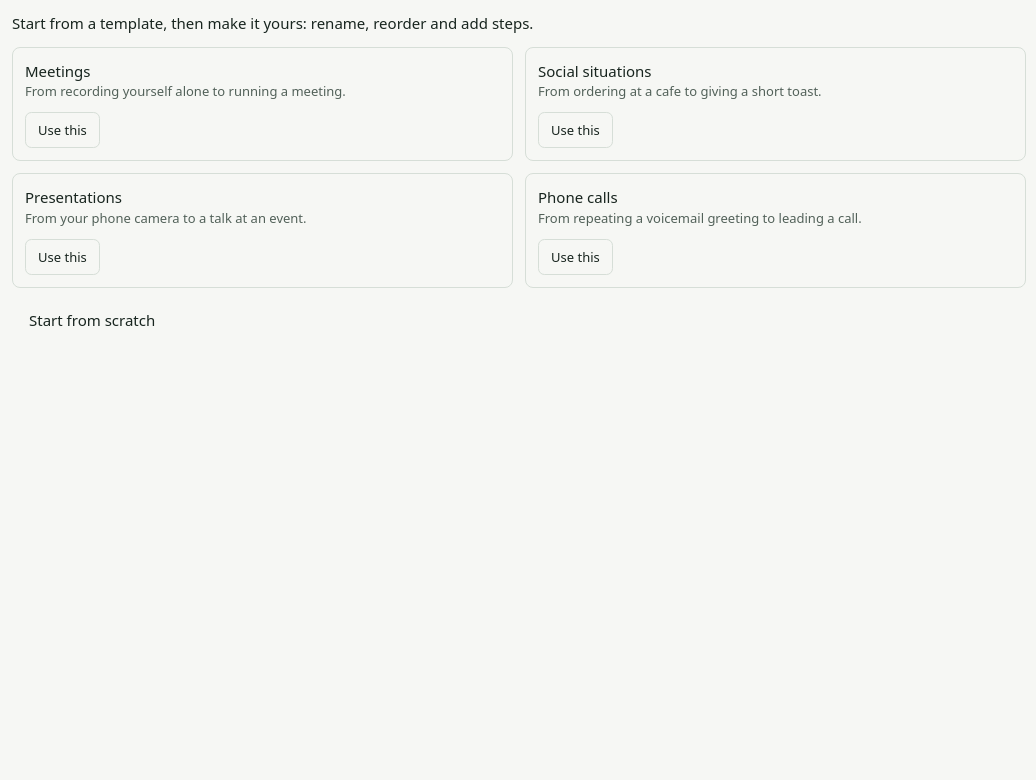
Test: the exposure ladder (12.2) › builds a ladder from a template and reorders by keyboard
Click the button with aria-label "Use the Meetings template".
click(62, 130)  # box [25,112,100,148]
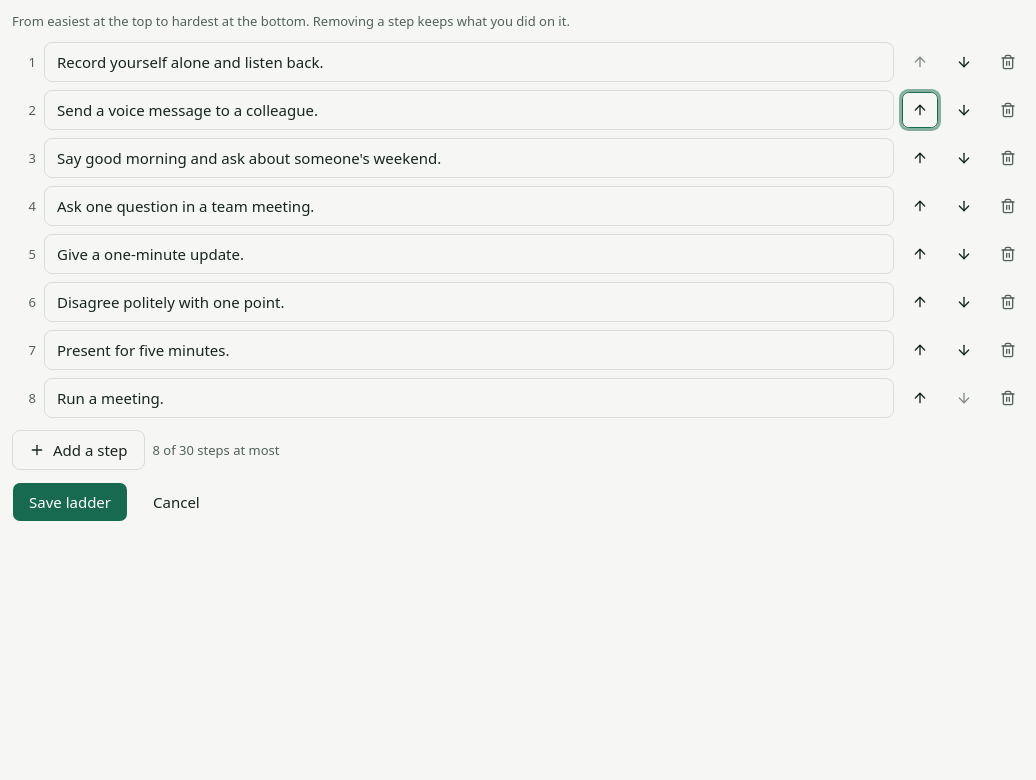
Expected: the number of fields is 8
Expected: the field named "Step 1" holds "Record yourself alone and listen back.", [44,42,894,82]
Press Enter
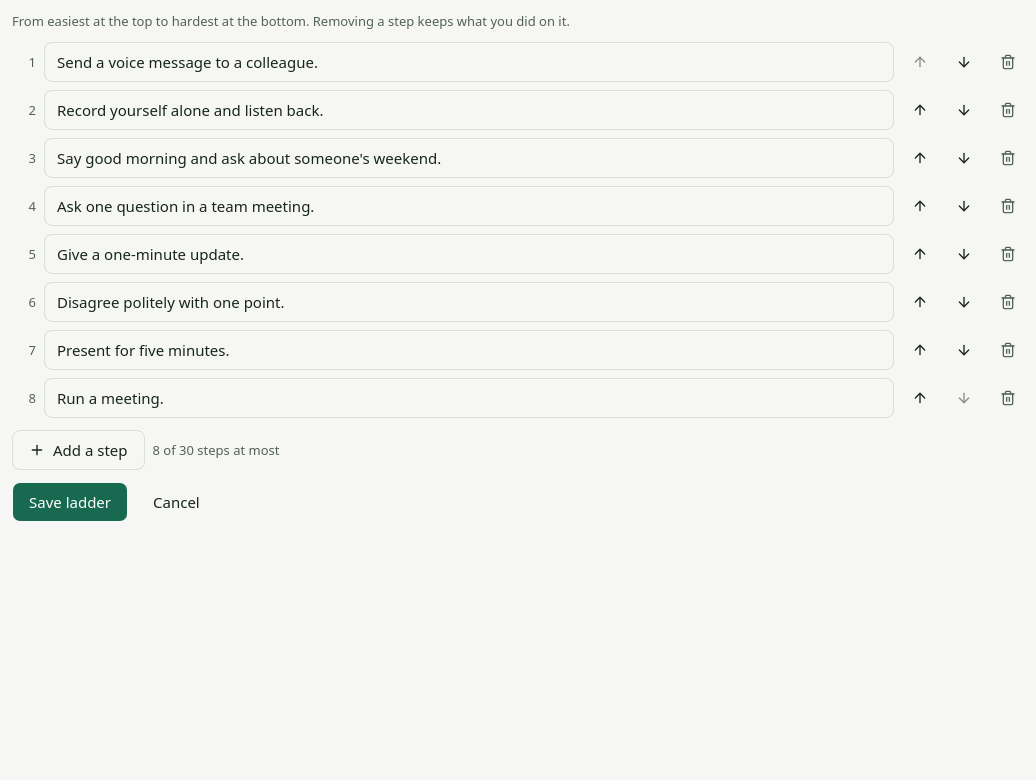
Expected: the field named "Step 1" holds "Send a voice message to a colleague.", [44,42,894,82]
Click the button named "Remove step 8".
click(1008, 398)  # box [990,380,1026,416]
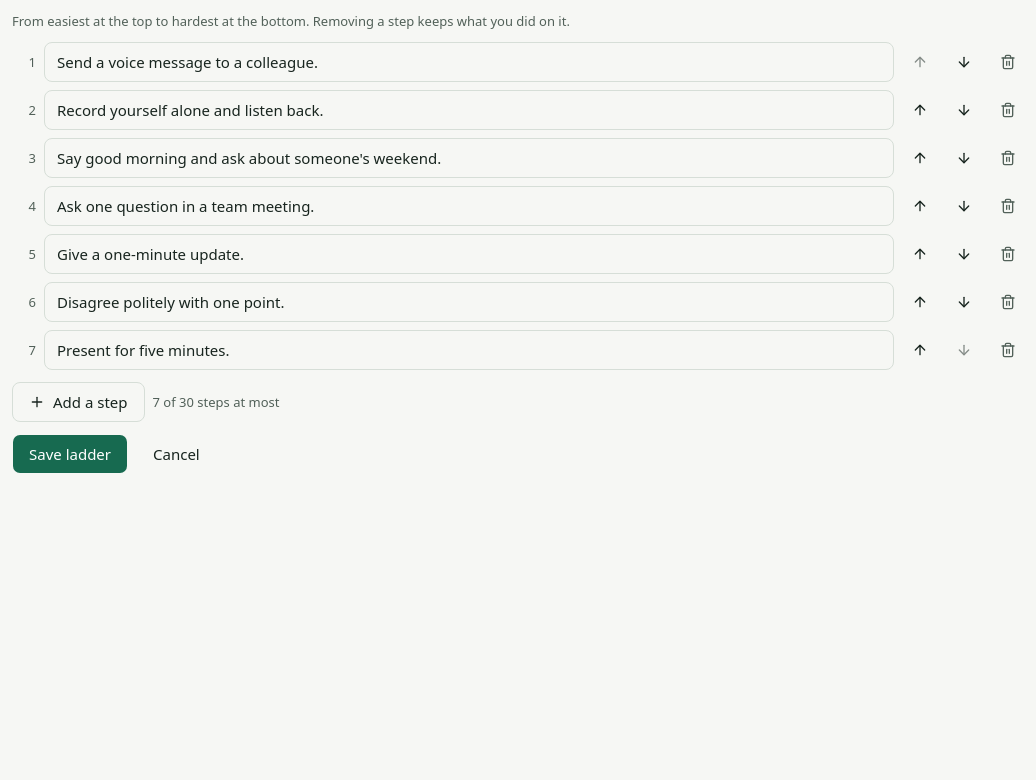
Click the button "Save ladder".
click(70, 454)  # box [12,434,128,474]
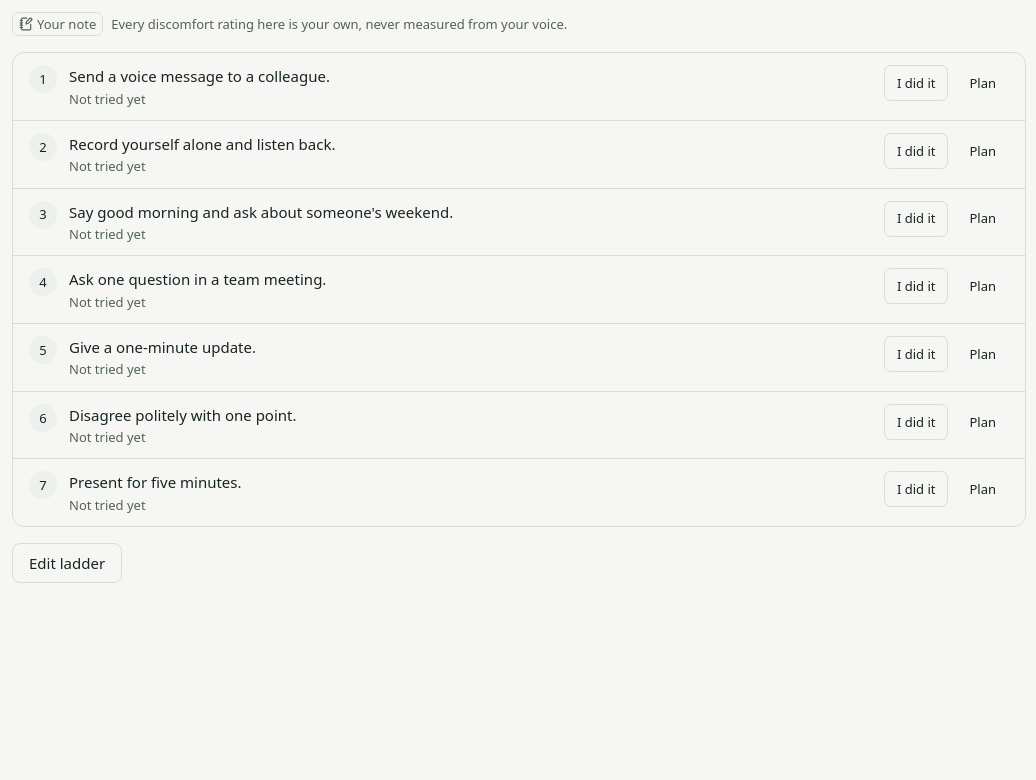
Expected: the list item that starts with "Send a voice message to a colleague." is shown, [69,66,330,86]
